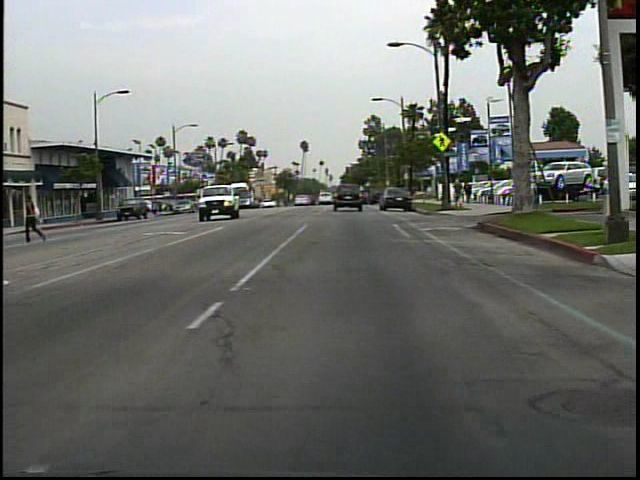person: (24, 192, 53, 245), (531, 178, 537, 215)
